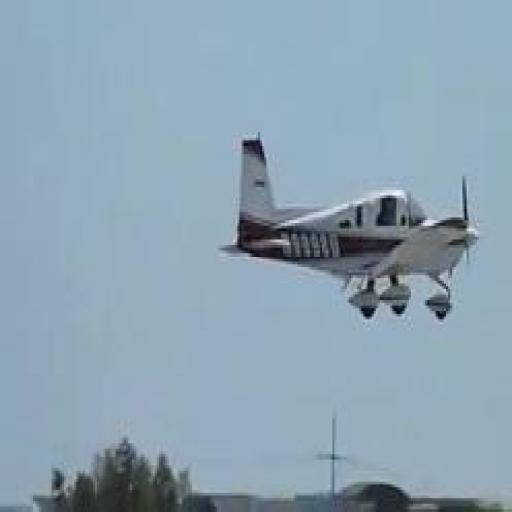aircraft: (219, 140, 483, 322)
